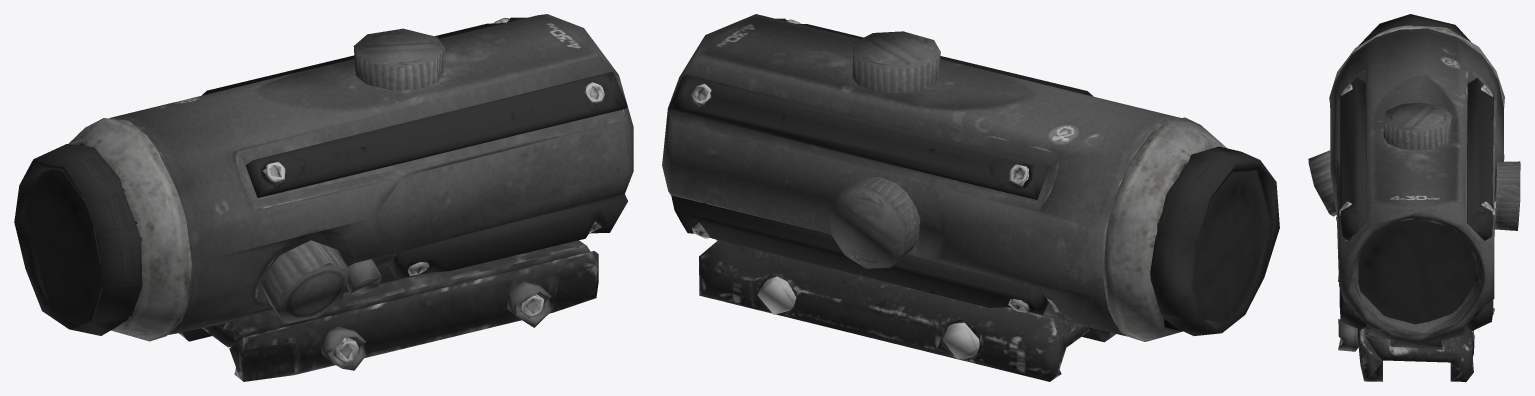
The model's file is ProOpticScope.fbx.
3 views of the same model, side by side, from view 1: azimuth 30°, elevation 25°; view 2: azimuth 150°, elevation 25°; view 3: azimuth 270°, elevation 25° (orthographic). The views are drawn at different scales.
Parts seen in each view (by area): view 1: ProOpticScope; view 2: ProOpticScope; view 3: ProOpticScope.
Part boxes in pixels (box(x1,y1,x2,y2)): ProOpticScope: box(14, 14, 633, 381); ProOpticScope: box(662, 14, 1279, 381); ProOpticScope: box(1308, 14, 1520, 381).
Size of the model in its own units: 0.0746 by 0.0358 by 0.0335.
